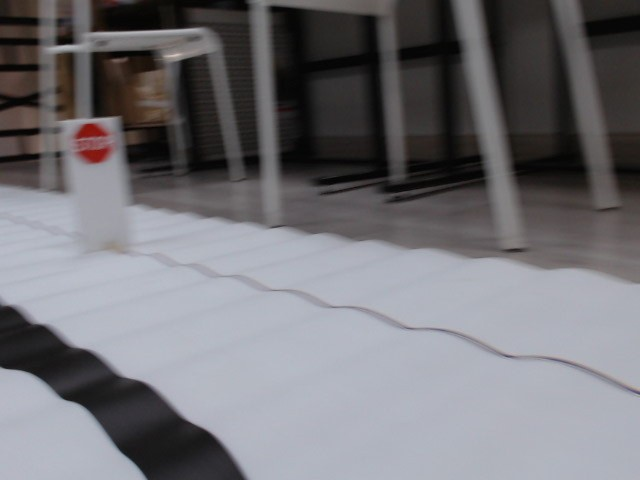Stop: (70, 121, 115, 162)
